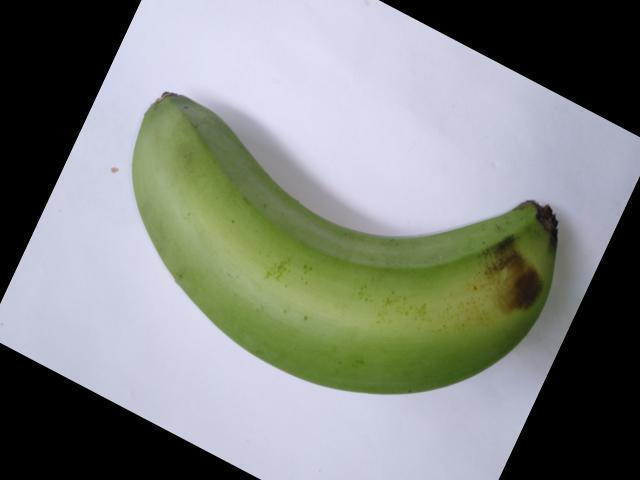freshunripe: (111, 85, 567, 416)
